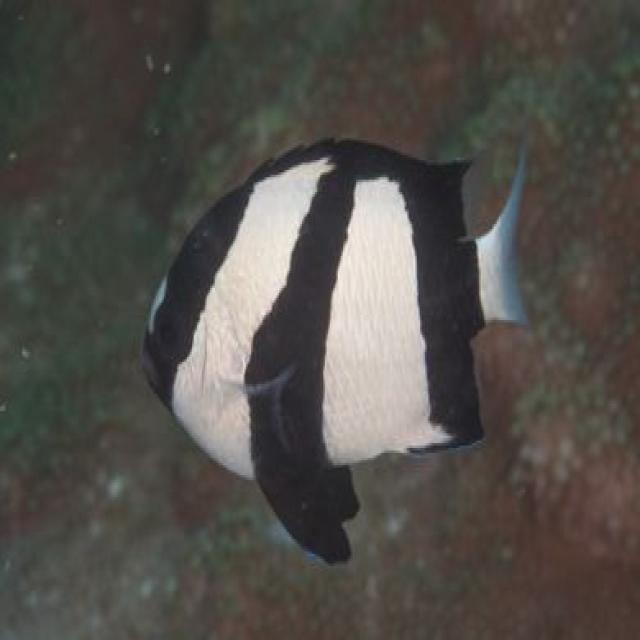ThreeStripedDamselfish: (141, 140, 528, 566)
